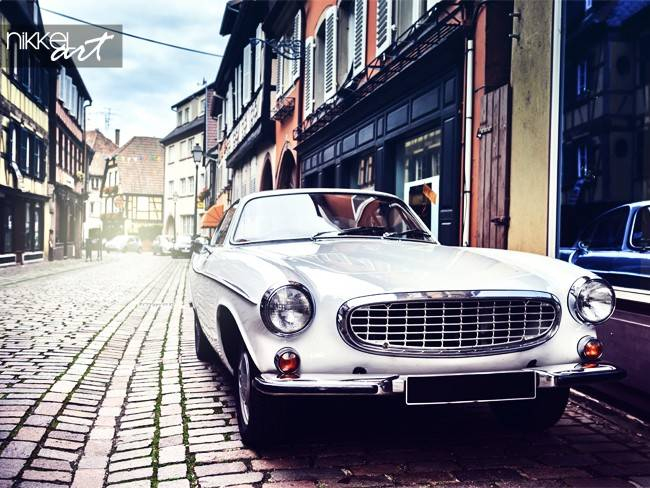car: (184, 189, 611, 440)
